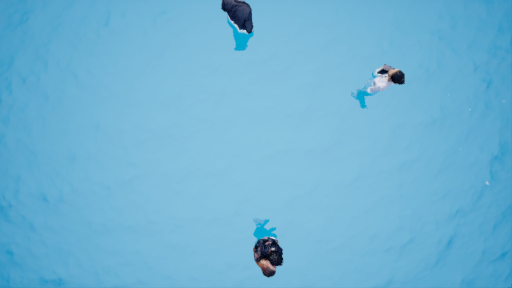person: (243, 214, 288, 279), (352, 59, 403, 116), (218, 1, 262, 55)
